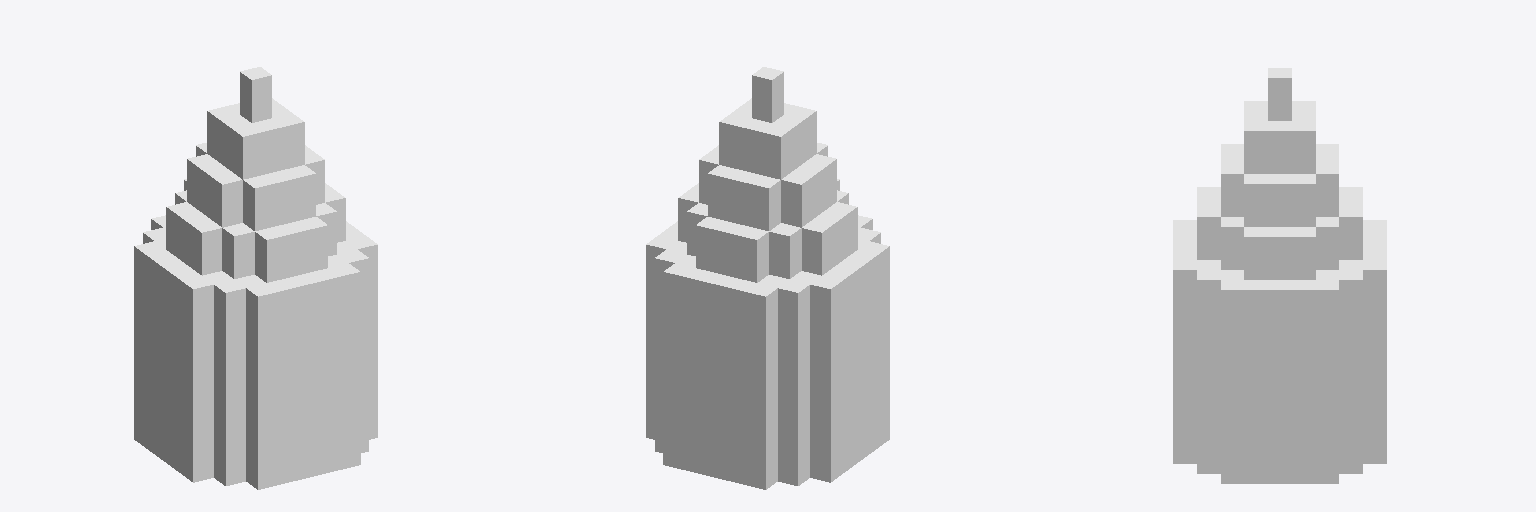
File: rocket_top.obj
3 views of the same model, side by side, from view 1: azimuth 30°, elevation 25°; view 2: azimuth 150°, elevation 25°; view 3: azimuth 270°, elevation 25° (orthographic).
Parts seen in each view (by area): view 1: object 1; view 2: object 1; view 3: object 1.
Boxes of the visible parts, <box> form: object 1: <box>134,67,377,489</box>; object 1: <box>646,67,889,489</box>; object 1: <box>1173,68,1386,483</box>.
Size of the model in its own units: 0.9 by 1.7 by 0.9.